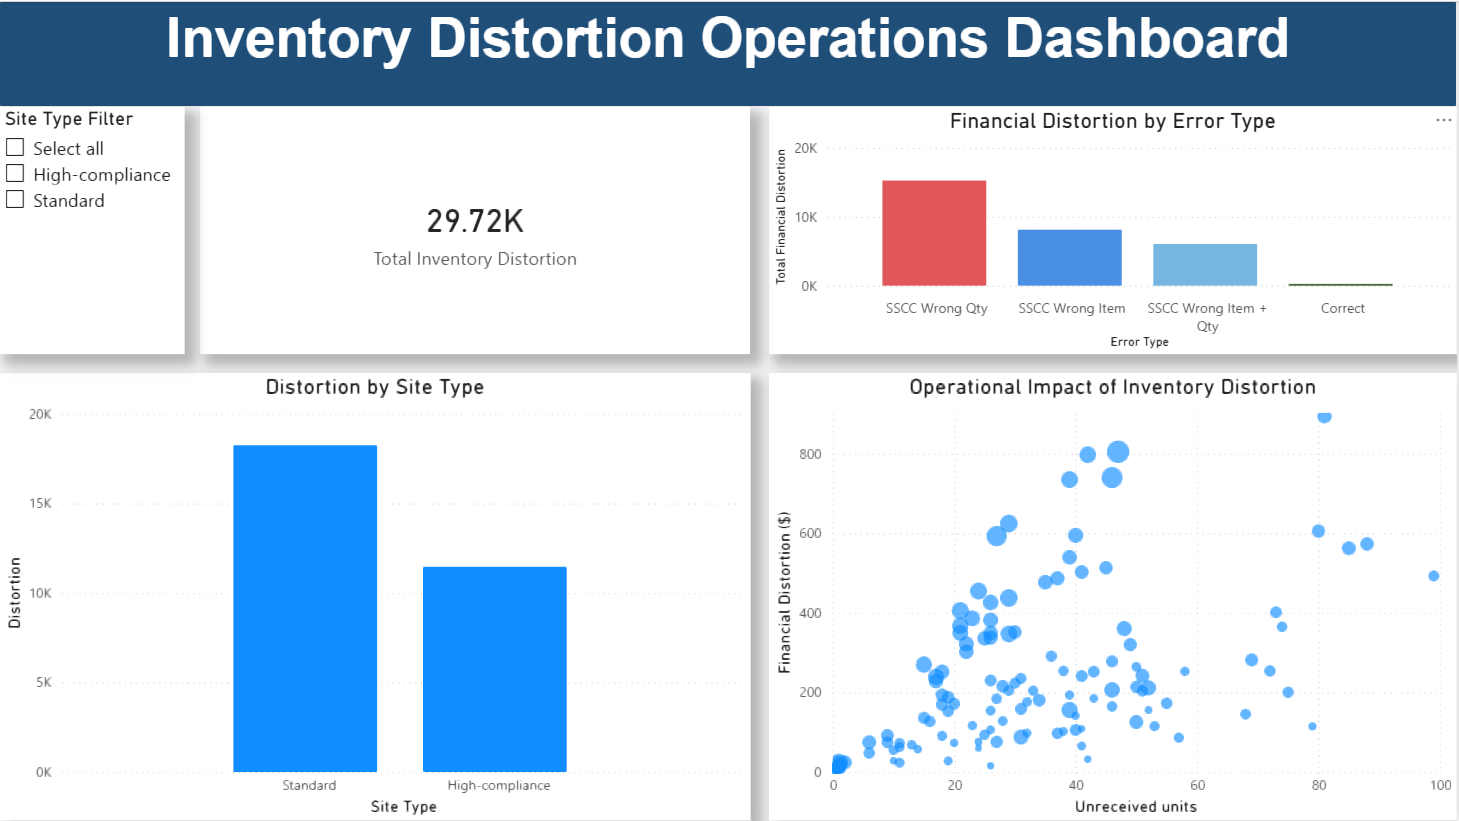

What the dashboard file says about the page in this screenshot:
{"tool":"powerbi","page":{"name":"Page 1","canvas":[1280,720],"ordinal":0},"visuals":[{"type":"clusteredColumnChart","title":"Financial Distortion by Error Type","fields":{"Y":["Sum(inventory_distortion_synthetic.value_distortion)"],"Category":["inventory_distortion_synthetic.error_type"]},"box":[676.1,93.1,604.1,216.9],"z":1000},{"type":"card","fields":{"Values":["Sum(inventory_distortion_synthetic.value_distortion)"]},"box":[176.7,92.8,483.2,217.3],"z":2000},{"type":"clusteredColumnChart","fields":{"Category":["inventory_distortion_synthetic.site_type"],"Y":["Sum(inventory_distortion_synthetic.value_distortion)"]},"box":[0,326.6,660.3,393.4],"z":3000},{"type":"scatterChart","title":"Operational Impact of Inventory Distortion","fields":{"X":["Sum(inventory_distortion_synthetic.unreceived_units)"],"Y":["Sum(inventory_distortion_synthetic.value_distortion)"],"Size":["Sum(inventory_distortion_synthetic.unit_cost)"],"Category":["inventory_distortion_synthetic.shipment_id"]},"box":[676.1,326.6,604.1,393.4],"z":4000},{"type":"textbox","box":[0,0,1280,92.8],"z":5500},{"type":"listSlicer","title":"Site Type Filter","fields":{"Values":["inventory_distortion_synthetic.site_type"]},"box":[0,92.8,162.5,217.3],"z":5501}]}

Visuals, with their boxes in screenshot pixels (x1, y1, x2, y2), scaled from the page's 1280x720 canvas onto the 1459x821 screenshot:
"Financial Distortion by Error Type" clusteredColumnChart: bbox=(771, 106, 1458, 353)
card - Sum(inventory_distortion_synthetic.value_distortion): bbox=(201, 106, 752, 354)
clusteredColumnChart - inventory_distortion_synthetic.site_type x Sum(inventory_distortion_synthetic.value_distortion): bbox=(0, 372, 753, 820)
"Operational Impact of Inventory Distortion" scatterChart: bbox=(771, 372, 1458, 820)
textbox: bbox=(0, 0, 1458, 106)
"Site Type Filter" listSlicer: bbox=(0, 106, 185, 354)
